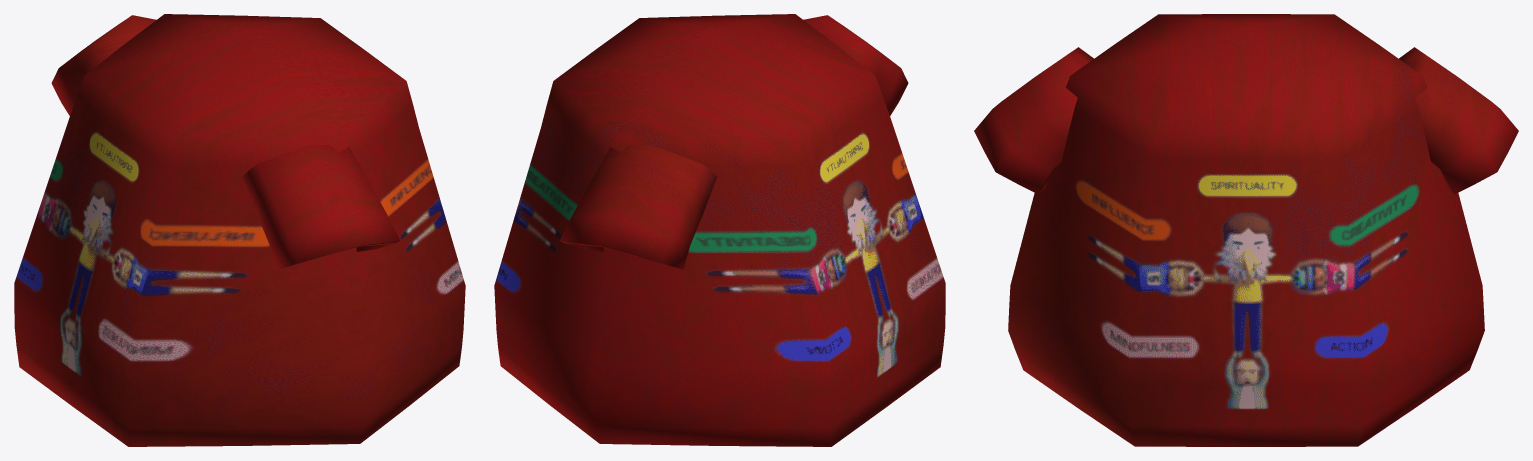
Rendered from Mindfulness.glb.
3 renders of one model, left to right at view 1: azimuth 30°, elevation 25°; view 2: azimuth 150°, elevation 25°; view 3: azimuth 270°, elevation 25°, orthographic. The views are drawn at different scales.
Visible parts, largest first — view 1: Mindfulness; view 2: Mindfulness; view 3: Mindfulness.
Part boxes in pixels (x1,y1,x2,y2): Mindfulness: (14,14,465,446); Mindfulness: (494,14,945,446); Mindfulness: (974,14,1518,446).
Size of the model in its own units: 1.48 by 1.5 by 2.03.
1 material, 1 textured.
